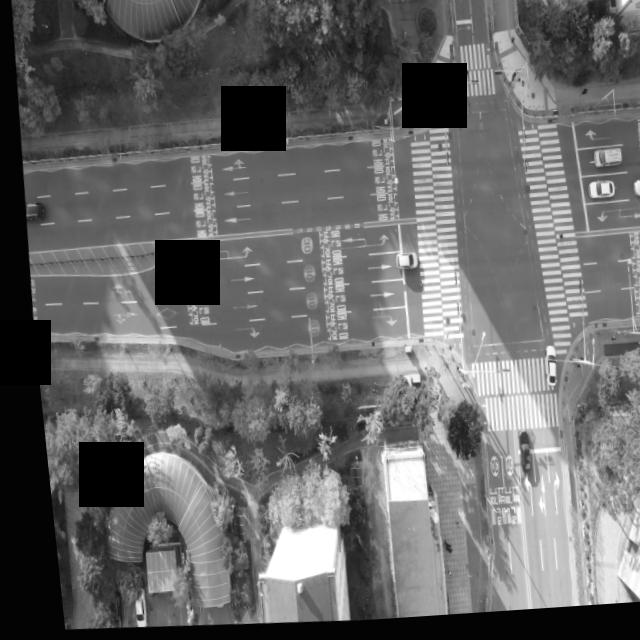car: (588, 151, 620, 180), (508, 436, 525, 478), (582, 187, 609, 207), (537, 355, 550, 394), (20, 200, 40, 220), (390, 257, 412, 275), (120, 597, 132, 628), (629, 185, 640, 205), (295, 240, 308, 256)
